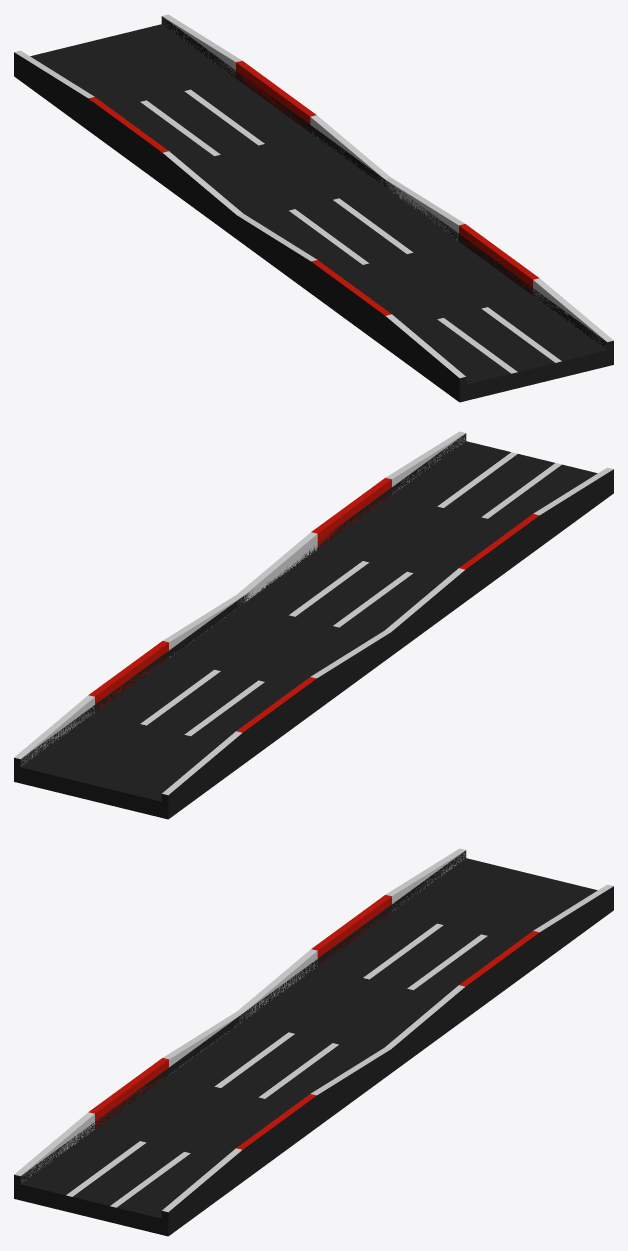
File: Road.fbx
3 views of the same model, one above another, from view 1: azimuth 30°, elevation 25°; view 2: azimuth 150°, elevation 25°; view 3: azimuth 330°, elevation 25° (orthographic).
Visible parts, largest first — view 1: Road; view 2: Road; view 3: Road.
Boxes of the visible parts, x1,y1,x2,y2 form: Road: [14, 14, 613, 402]; Road: [14, 431, 613, 819]; Road: [14, 848, 613, 1236].
Bounding box in the file's own units: 200 × 40 × 1000.
